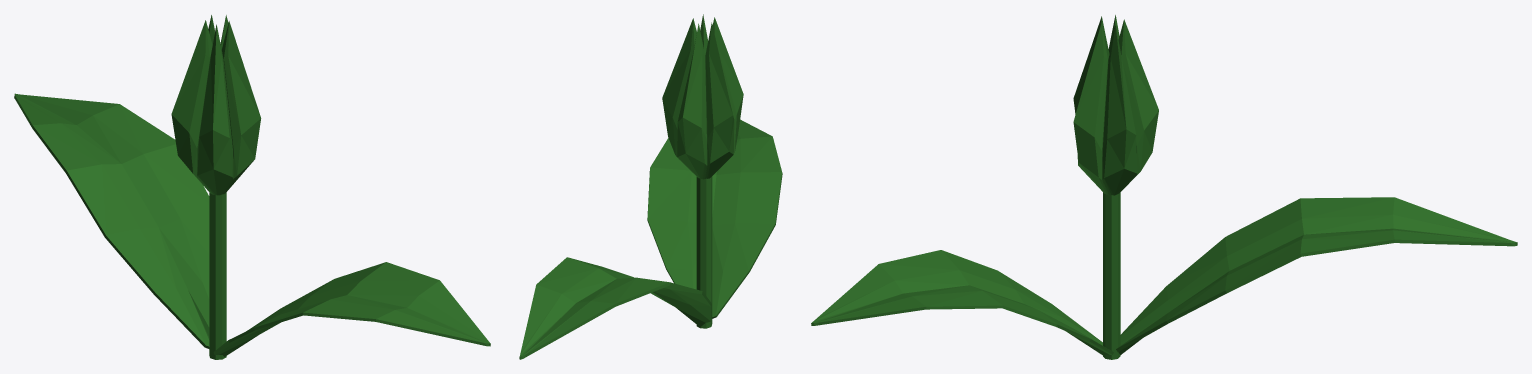
The model's file is fmn2-stage1.glb.
3 views of the same model, side by side, from view 1: azimuth 30°, elevation 25°; view 2: azimuth 150°, elevation 25°; view 3: azimuth 270°, elevation 25° (orthographic). The views are drawn at different scales.
Visible parts, largest first — view 1: Leaf.002, ClosedPetal.001, Leaf.001, ClosedStem.001; view 2: Leaf.001, ClosedPetal.001, Leaf.002, ClosedStem.001; view 3: Leaf.002, Leaf.001, ClosedPetal.001, ClosedStem.001.
Part boxes in pixels (x1,y1,x2,y2): Leaf.002: [14, 93, 209, 348]; ClosedPetal.001: [171, 15, 261, 195]; Leaf.001: [213, 262, 490, 356]; ClosedStem.001: [209, 192, 226, 359]; Leaf.001: [647, 119, 782, 318]; ClosedPetal.001: [662, 14, 743, 179]; Leaf.002: [519, 257, 711, 359]; ClosedStem.001: [696, 176, 712, 328]; Leaf.002: [1116, 197, 1517, 354]; Leaf.001: [811, 250, 1113, 356]; ClosedPetal.001: [1073, 15, 1158, 195]; ClosedStem.001: [1103, 192, 1120, 359].
Size of the model in its own units: 0.0381 by 0.0661 by 0.1253.
